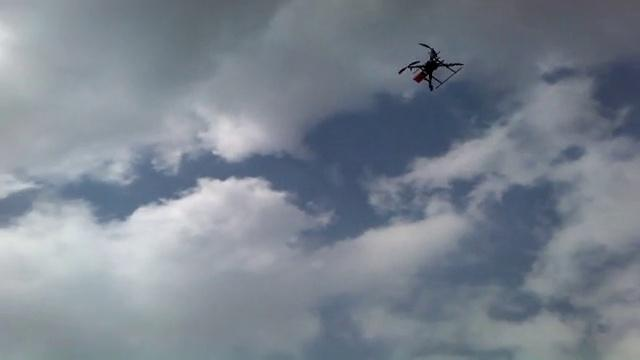drone: (395, 41, 464, 93)
